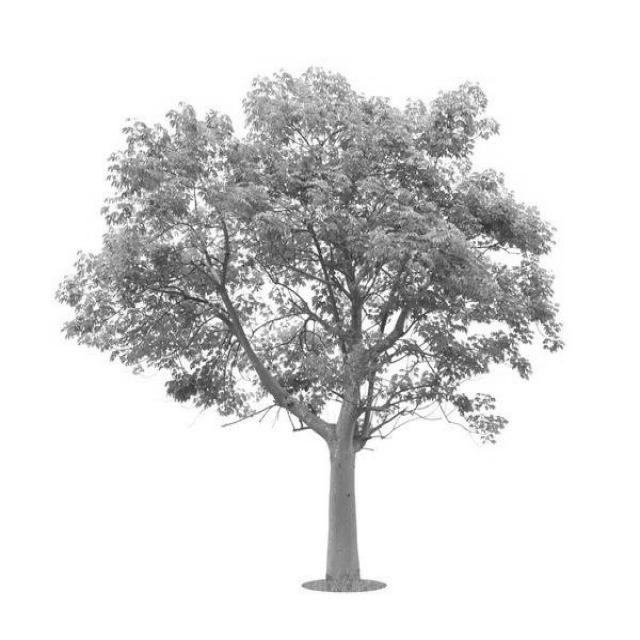Tree: (58, 68, 563, 581)
